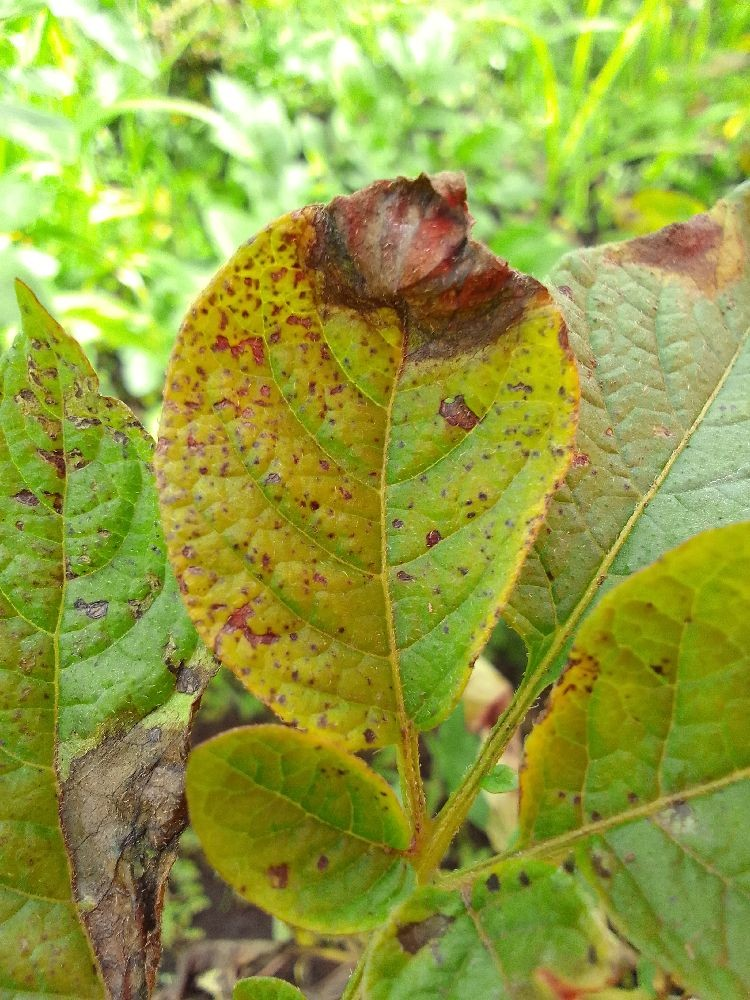late_blight: (582, 178, 750, 329), (487, 891, 718, 999), (0, 343, 119, 532), (385, 898, 464, 965)
